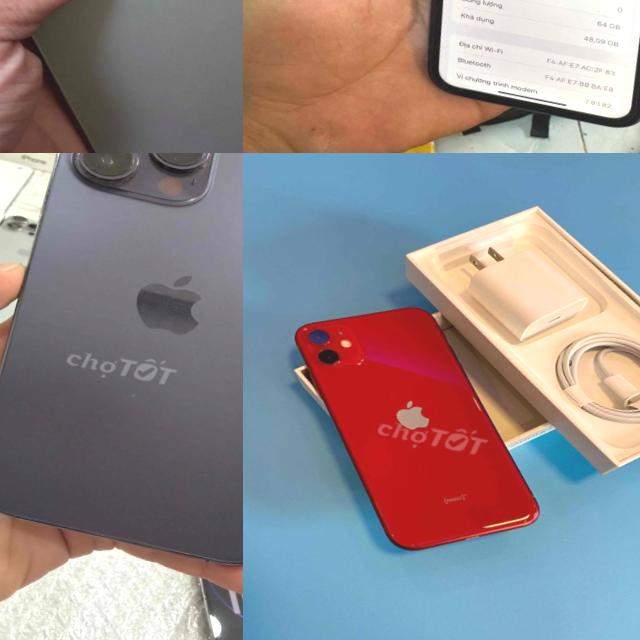gen_11: (243, 277, 592, 591)
gen_12_13: (0, 0, 243, 153)
gen_14: (0, 153, 243, 590)
gen_x_xs: (366, 0, 640, 140)
